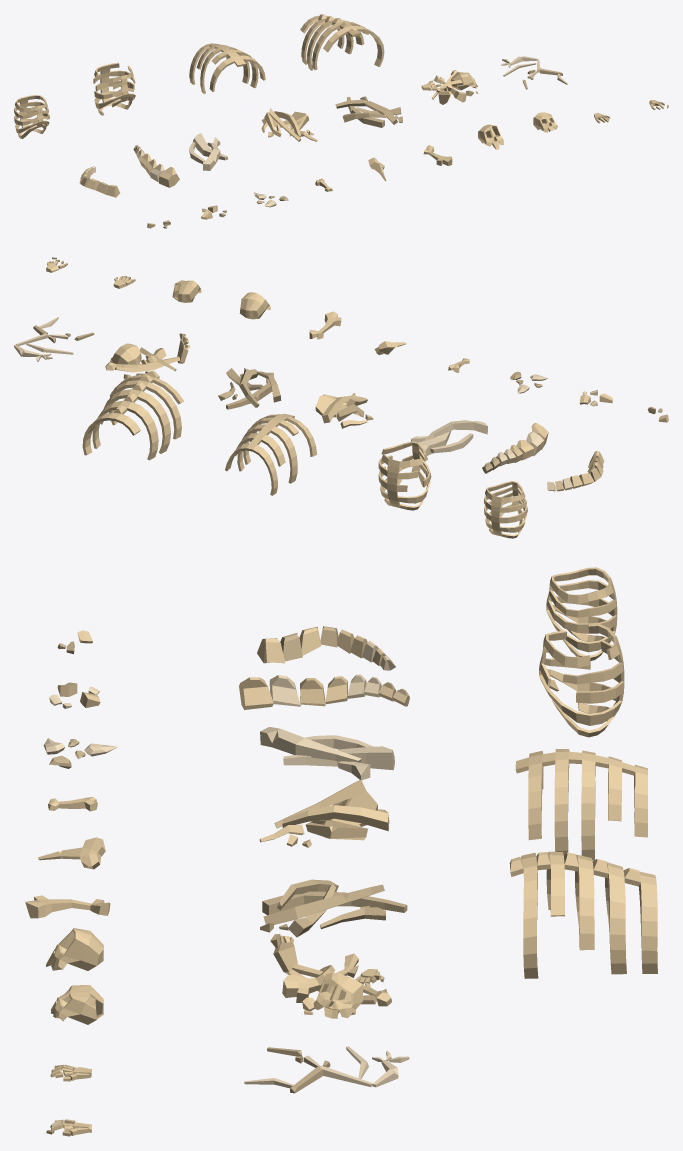
File: Bones.fbx
The picture shows the model from 3 angles, top to bottom: view 1: azimuth 30°, elevation 25°; view 2: azimuth 150°, elevation 25°; view 3: azimuth 270°, elevation 25°; orthographic projection. The views are drawn at different scales.
Visible parts, largest first — view 1: Bone_Ribs_4, Bone_Ribs_3, Bone_Ribs_2, Bone_Ribs_1, Bone_Stack_3, Bone_Stack_4, Bone_Stack_2, Bone_Spine_2, Bone_Stack_1, Bone_Wing, Bone_Spine_1, Skull_1 (+1 smaller); view 2: Bone_Ribs_4, Bone_Ribs_3, Bone_Ribs_2, Bone_Ribs_1, Bone_Stack_4, Bone_Stack_3, Bone_Stack_1, Bone_Stack_2, Bone_Spine_2, Bone_Wing, Bone_Spine_1, Skull_1 (+1 smaller); view 3: Bone_Ribs_4, Bone_Ribs_3, Bone_Ribs_2, Bone_Stack_4, Bone_Stack_3, Bone_Ribs_1, Bone_Stack_2, Bone_Spine_2, Bone_Stack_1, Bone_Spine_1, Bone_Wing, Skull_1 (+4 smaller).
Boxes of the visible parts, x1=… form: Bone_Ribs_4: x1=300, y1=14, x2=384, y2=70; Bone_Ribs_3: x1=189, y1=43, x2=265, y2=93; Bone_Ribs_2: x1=93, y1=62, x2=135, y2=115; Bone_Ribs_1: x1=14, y1=95, x2=49, y2=138; Bone_Stack_3: x1=335, y1=96, x2=402, y2=127; Bone_Stack_4: x1=421, y1=70, x2=477, y2=104; Bone_Stack_2: x1=261, y1=108, x2=317, y2=141; Bone_Spine_2: x1=133, y1=145, x2=179, y2=187; Bone_Stack_1: x1=189, y1=133, x2=228, y2=170; Bone_Wing: x1=501, y1=56, x2=567, y2=89; Bone_Spine_1: x1=79, y1=166, x2=119, y2=197; Skull_1: x1=478, y1=124, x2=503, y2=149; Bone_Ribs_4: x1=82, y1=371, x2=183, y2=460; Bone_Ribs_3: x1=225, y1=413, x2=317, y2=495; Bone_Ribs_2: x1=378, y1=441, x2=431, y2=510; Bone_Ribs_1: x1=484, y1=481, x2=527, y2=538; Bone_Stack_4: x1=105, y1=333, x2=189, y2=378; Bone_Stack_3: x1=218, y1=368, x2=281, y2=409; Bone_Stack_1: x1=411, y1=420, x2=487, y2=455; Bone_Stack_2: x1=315, y1=393, x2=373, y2=428; Bone_Spine_2: x1=482, y1=423, x2=548, y2=473; Bone_Wing: x1=14, y1=317, x2=94, y2=361; Bone_Spine_1: x1=547, y1=451, x2=604, y2=491; Skull_1: x1=239, y1=292, x2=270, y2=319; Bone_Ribs_4: x1=509, y1=851, x2=657, y2=978; Bone_Ribs_3: x1=515, y1=749, x2=647, y2=860; Bone_Ribs_2: x1=539, y1=624, x2=624, y2=737; Bone_Stack_4: x1=270, y1=934, x2=391, y2=1018; Bone_Stack_3: x1=260, y1=879, x2=407, y2=937; Bone_Ribs_1: x1=546, y1=567, x2=617, y2=660; Bone_Stack_2: x1=259, y1=779, x2=389, y2=847; Bone_Spine_2: x1=239, y1=674, x2=409, y2=709; Bone_Stack_1: x1=260, y1=727, x2=394, y2=780; Bone_Spine_1: x1=257, y1=626, x2=395, y2=670; Bone_Wing: x1=244, y1=1046, x2=409, y2=1093; Skull_1: x1=46, y1=928, x2=103, y2=970.
Bounding box in the file's own units: 941 × 89.63 × 496.
